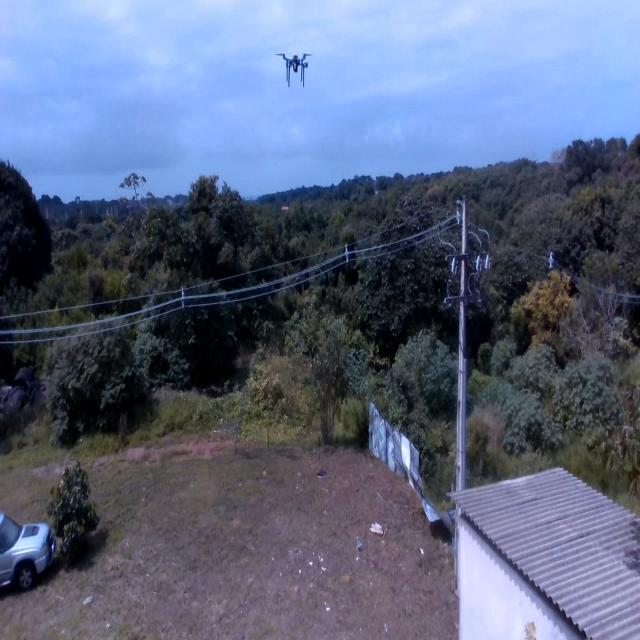-uav-: (272, 28, 316, 99)
